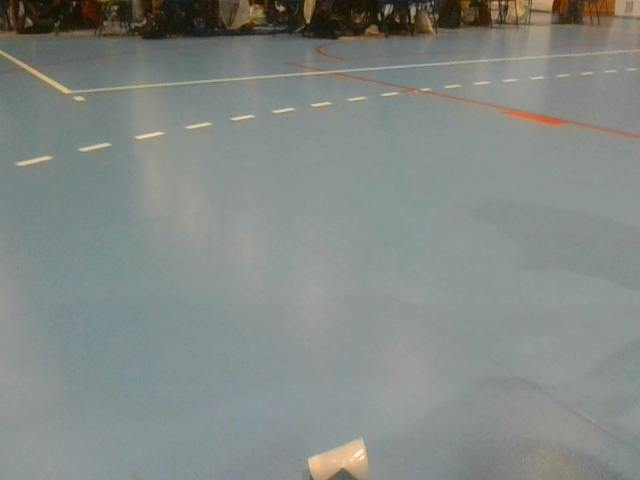plasticcup: (307, 434, 371, 480)
